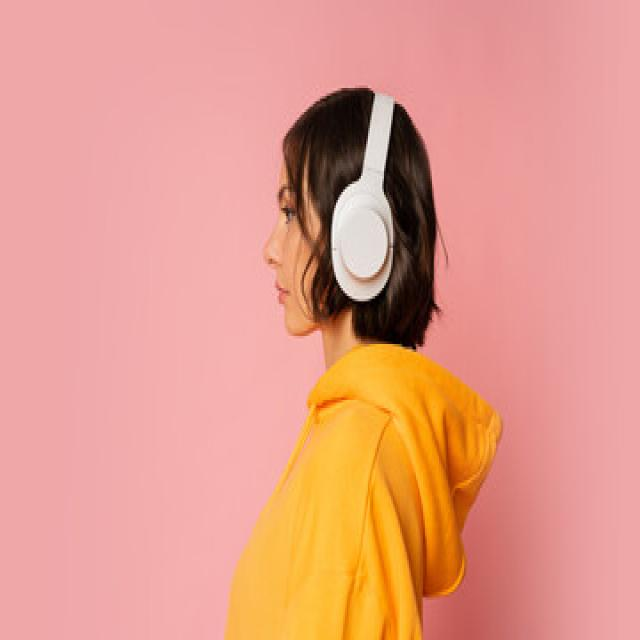Headphone: (329, 91, 395, 306)
